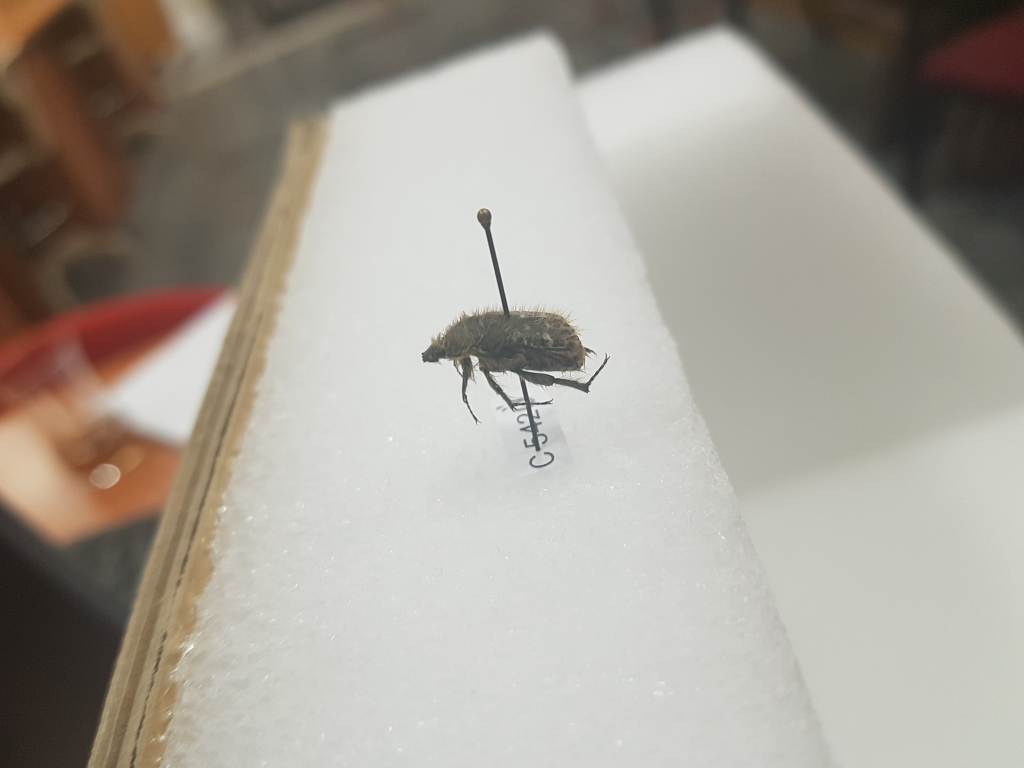Tropinota_hirta: (414, 298, 621, 434)
